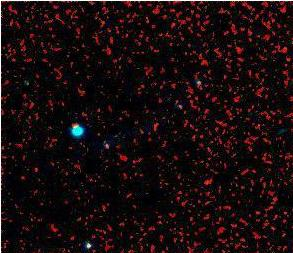star: (192, 166, 222, 196)
